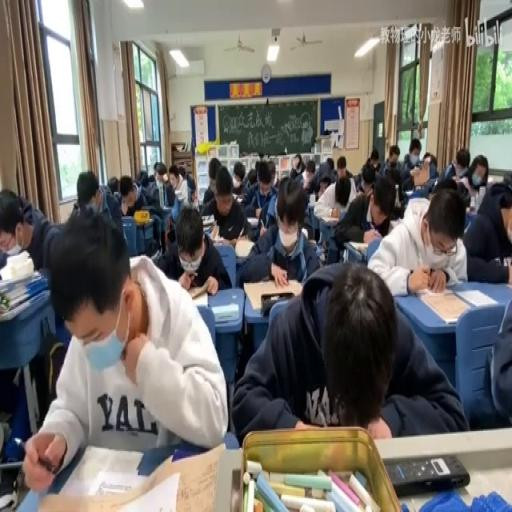calculator: (242, 276, 302, 311), (418, 289, 470, 321), (0, 288, 48, 322), (0, 264, 37, 294), (210, 302, 238, 324), (234, 236, 256, 258), (205, 222, 224, 243), (189, 288, 208, 306), (347, 239, 370, 252), (318, 213, 340, 225), (388, 219, 402, 233), (465, 209, 475, 228), (305, 234, 317, 248), (245, 215, 260, 226), (201, 213, 214, 225), (486, 175, 505, 183), (394, 183, 400, 205), (160, 205, 173, 215), (232, 194, 242, 204), (308, 194, 314, 206), (404, 189, 413, 196)
paper: (20, 209, 222, 495), (232, 256, 459, 441), (368, 184, 470, 294), (237, 178, 318, 287), (154, 202, 229, 292), (467, 279, 511, 431), (461, 173, 512, 278), (326, 170, 382, 260), (0, 190, 57, 274), (122, 170, 165, 252), (70, 168, 116, 240), (378, 145, 404, 206), (403, 141, 432, 192), (308, 155, 338, 196), (444, 145, 470, 181), (202, 155, 220, 205), (166, 162, 186, 205), (333, 155, 352, 189), (430, 178, 460, 196), (230, 161, 245, 196), (363, 145, 379, 175), (289, 154, 304, 179), (456, 182, 471, 206), (244, 166, 258, 190), (170, 194, 181, 224), (267, 159, 277, 189), (185, 172, 194, 203), (426, 158, 438, 180), (106, 176, 118, 196), (154, 165, 166, 185), (354, 171, 364, 192), (135, 168, 147, 185), (501, 172, 510, 192), (325, 156, 334, 170), (305, 169, 314, 182), (402, 154, 410, 168)
person: (385, 452, 470, 494), (0, 466, 19, 510), (414, 185, 424, 192)
